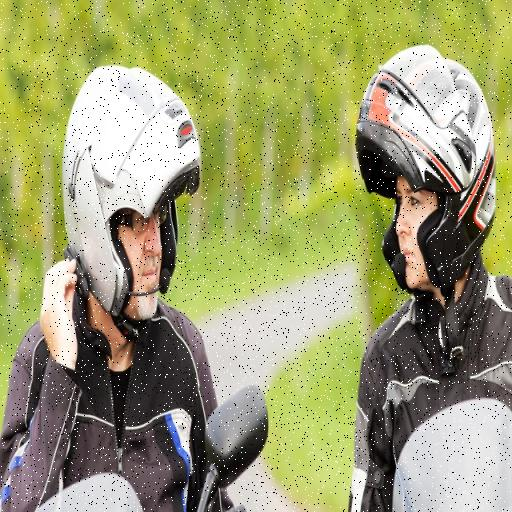Helmet: (50, 53, 216, 327), (348, 45, 504, 303)
